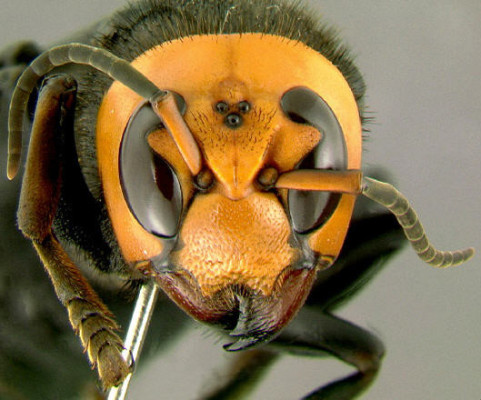asian_giant_hornet: (1, 1, 384, 398)
